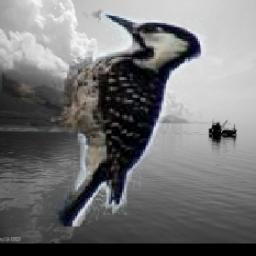Woodpecker: (1, 10, 207, 226)
